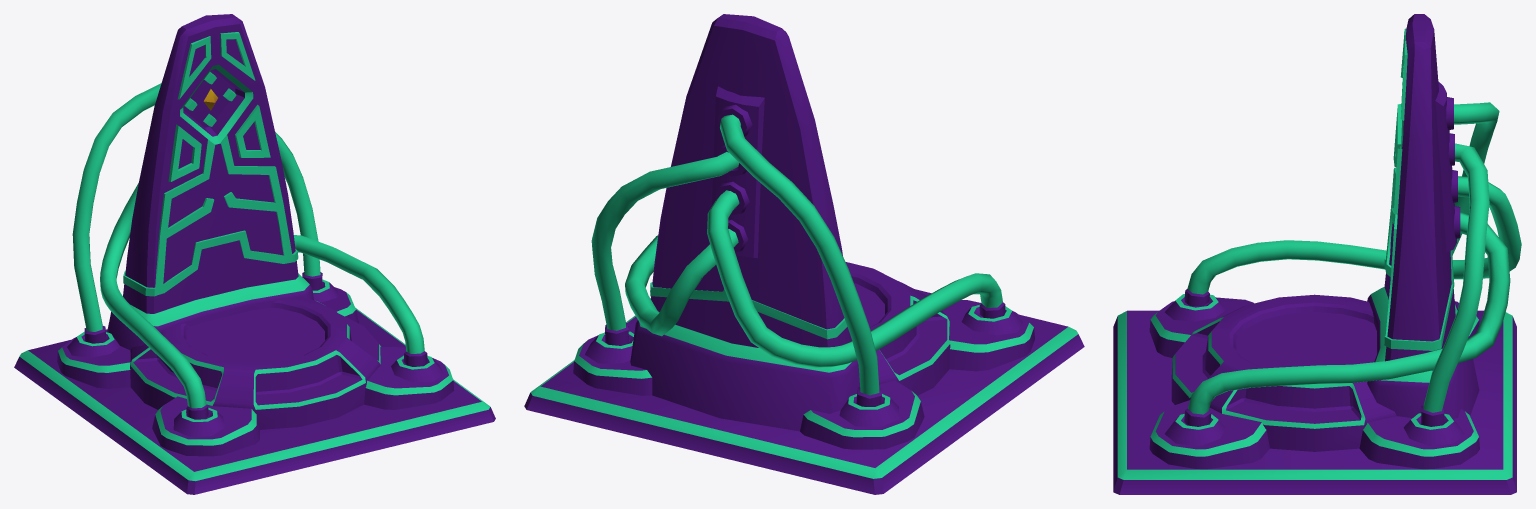
Rendered from Aaltar_var1.fbx.
3 views of the same model, side by side, from view 1: azimuth 30°, elevation 25°; view 2: azimuth 150°, elevation 25°; view 3: azimuth 270°, elevation 25° (orthographic). The views are drawn at different scales.
Visible parts, largest first — view 1: Aaltar_Var1; view 2: Aaltar_Var1; view 3: Aaltar_Var1.
Part boxes in pixels (box(x1,y1,x2,y2)): Aaltar_Var1: box(14, 14, 495, 494); Aaltar_Var1: box(524, 14, 1084, 494); Aaltar_Var1: box(1113, 14, 1521, 494).
Bounding box in the file's own units: 76.72 × 80.93 × 77.61.
